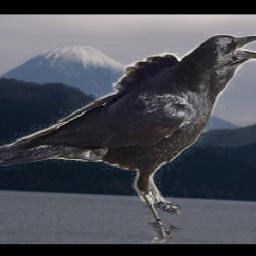Crow: (0, 32, 256, 243)
